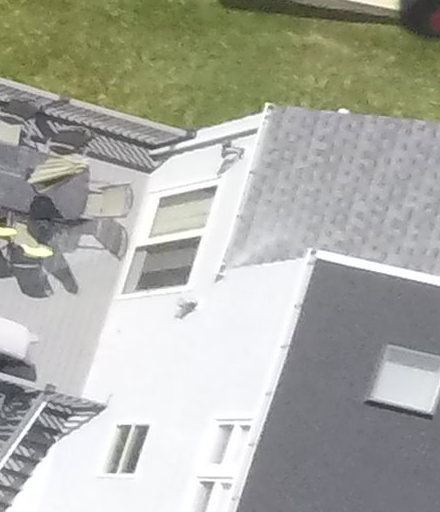chair: (80, 178, 143, 230)
table: (1, 140, 94, 235)
